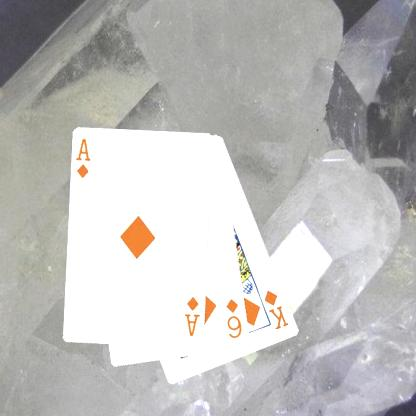6D: (224, 296, 244, 340)
AD: (182, 294, 201, 338), (74, 136, 92, 179)
KD: (262, 287, 290, 331)
